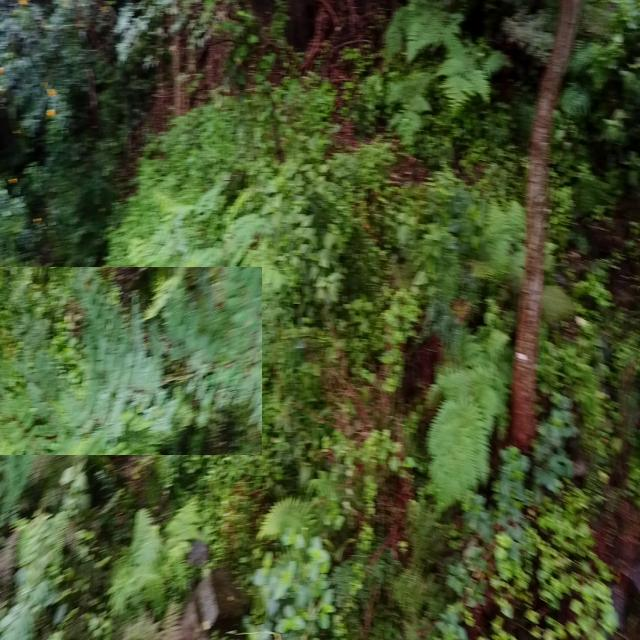Mysore-Thorn-Weed: (0, 267, 262, 455)
